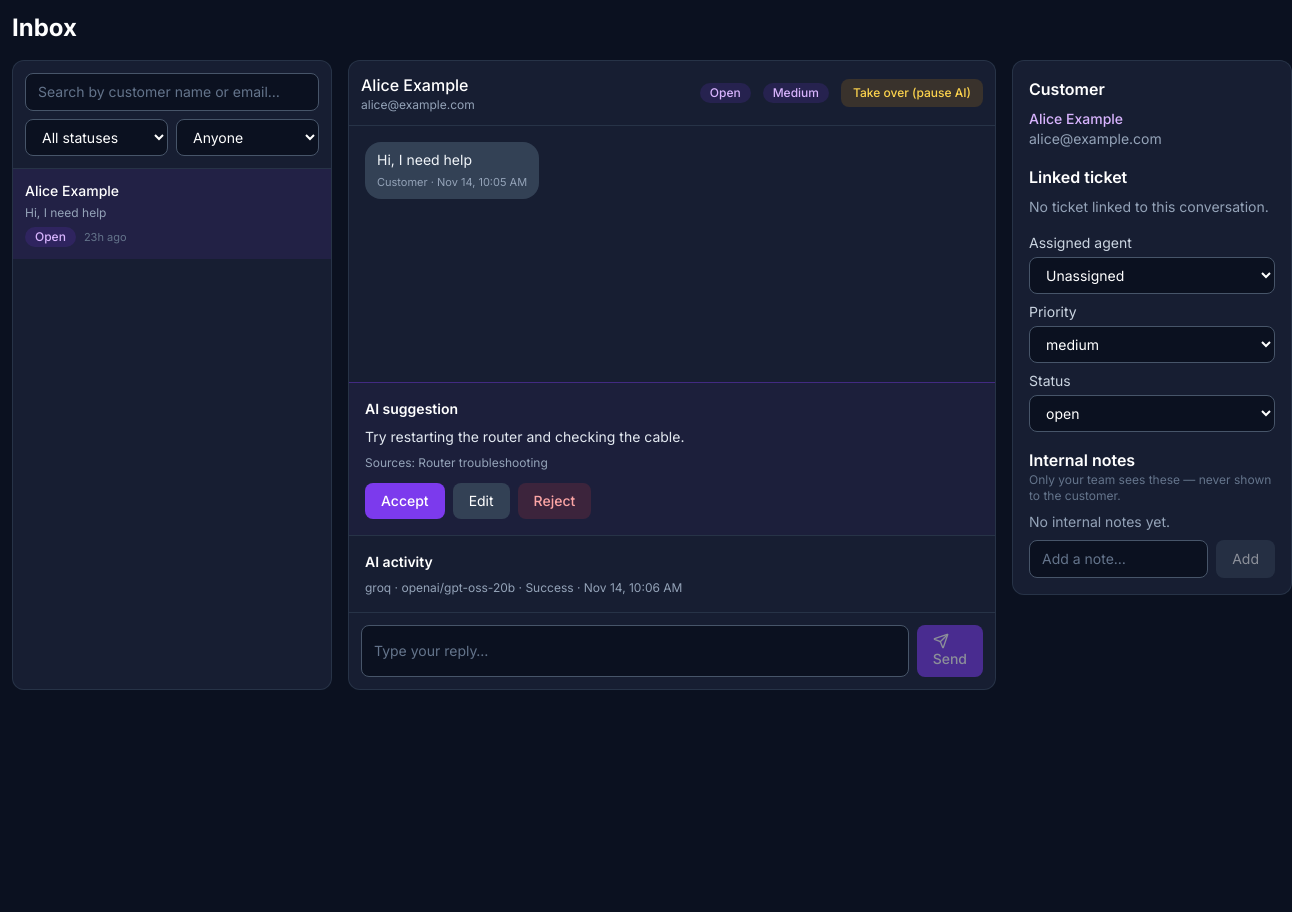
Scenario: Inbox AI suggestion panel › shows the pending suggestion with sources and accepts it
Expected: the heading "AI suggestion" is shown, [365,400,458,417]
Expected: the text "Try restarting the router and checking the cable." is shown, [365,428,684,445]
What coordinates should you click on to do the following:
click the button "Accept"
I would click on:
 (405, 501)
Its box is [365,483,445,519].
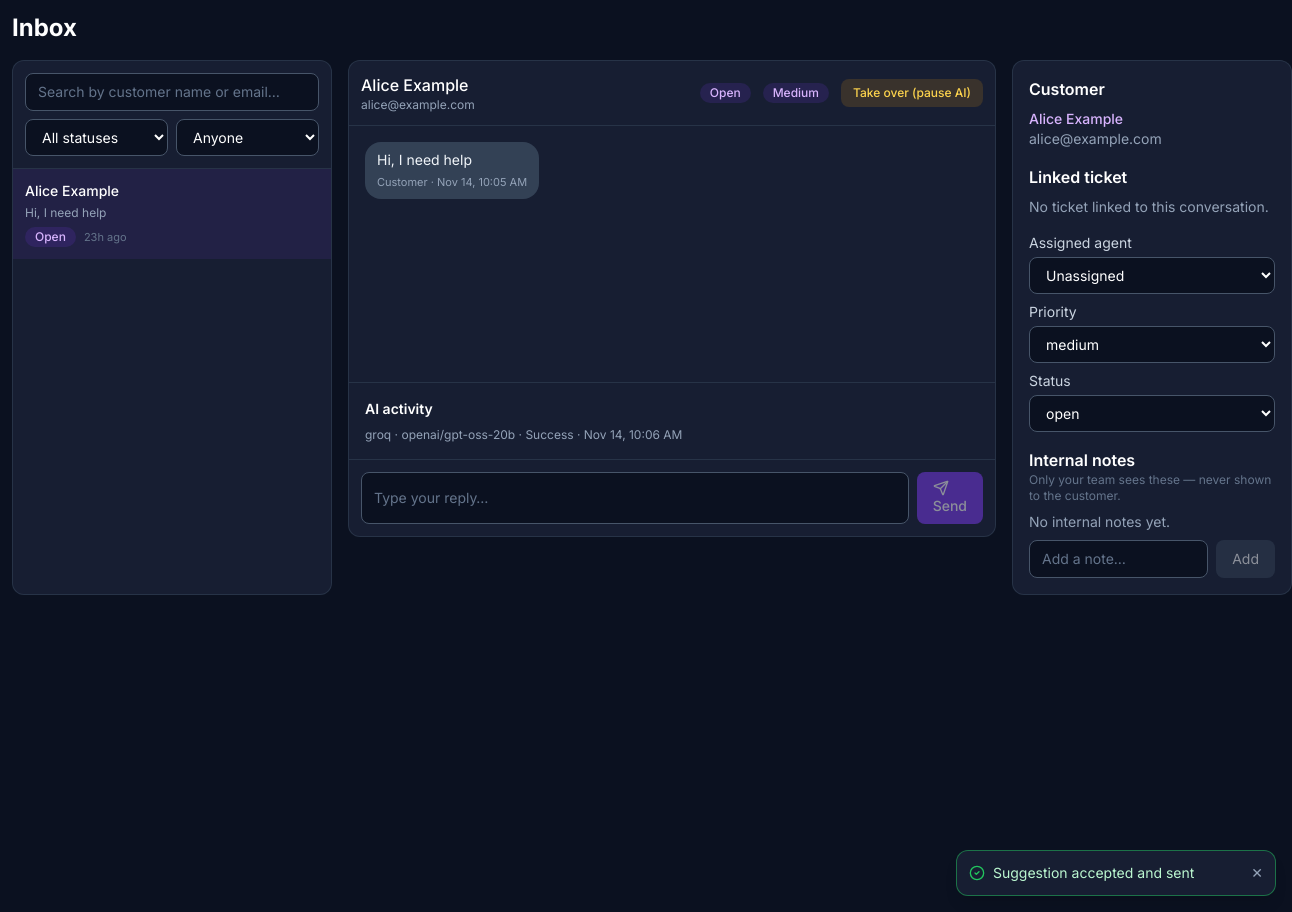
Expected: the text "Try restarting the router and checking the cable." is gone
